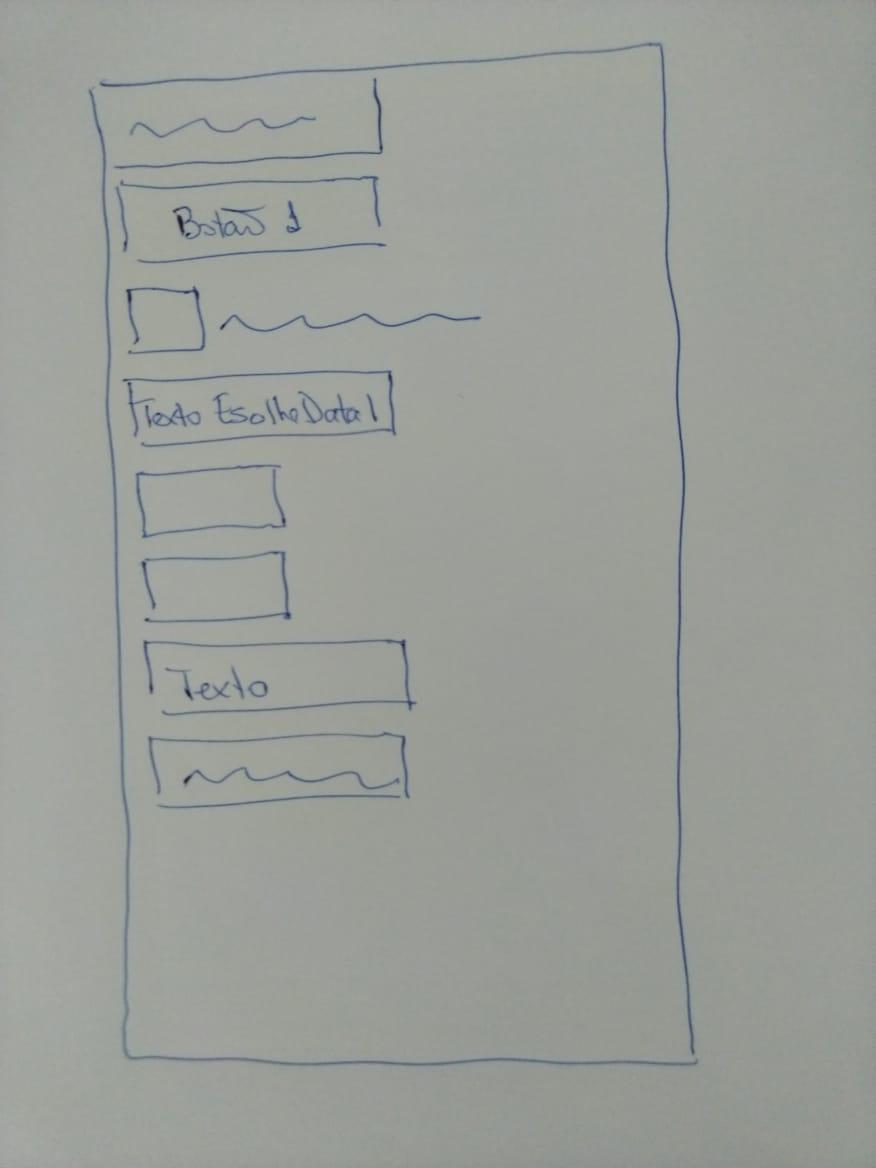Button: (90, 68, 383, 168), (115, 177, 387, 263), (123, 371, 396, 447), (147, 731, 411, 809)
CheckBox: (126, 286, 480, 355)
Screen: (87, 41, 698, 1066)
TextBox: (144, 639, 418, 715), (136, 463, 287, 537), (140, 551, 292, 624)
